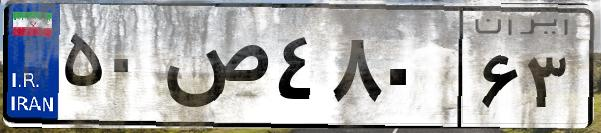0: (385, 28, 445, 110), (110, 28, 158, 98)
3: (525, 38, 570, 115)
4: (270, 28, 330, 110)
5: (57, 26, 110, 100)
6: (475, 38, 525, 113)
8: (330, 28, 385, 110)
ص: (158, 20, 270, 120)
